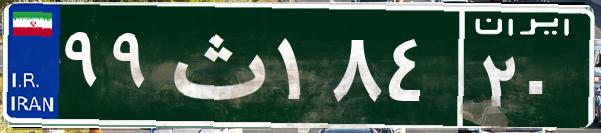0: (525, 38, 570, 115)
1: (273, 28, 330, 110)
2: (475, 38, 525, 113)
4: (385, 28, 445, 110)
8: (330, 28, 385, 110)
9: (57, 26, 110, 107), (110, 28, 158, 105)
ث: (158, 15, 273, 115)
